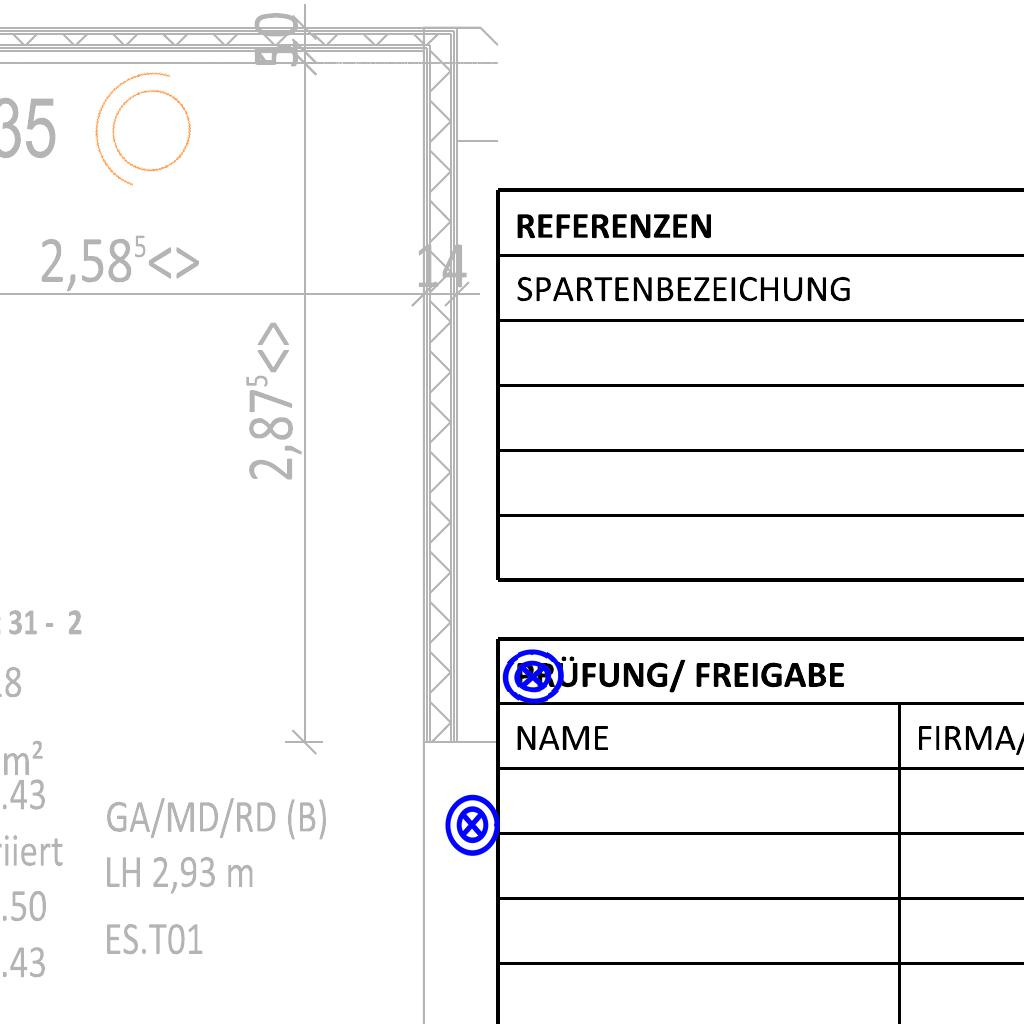Scheinwerfer_fuer_Alarmbeleuchtung: (71, 51, 221, 213)
Taster_beleuchtet: (498, 642, 568, 712), (439, 792, 505, 858)
